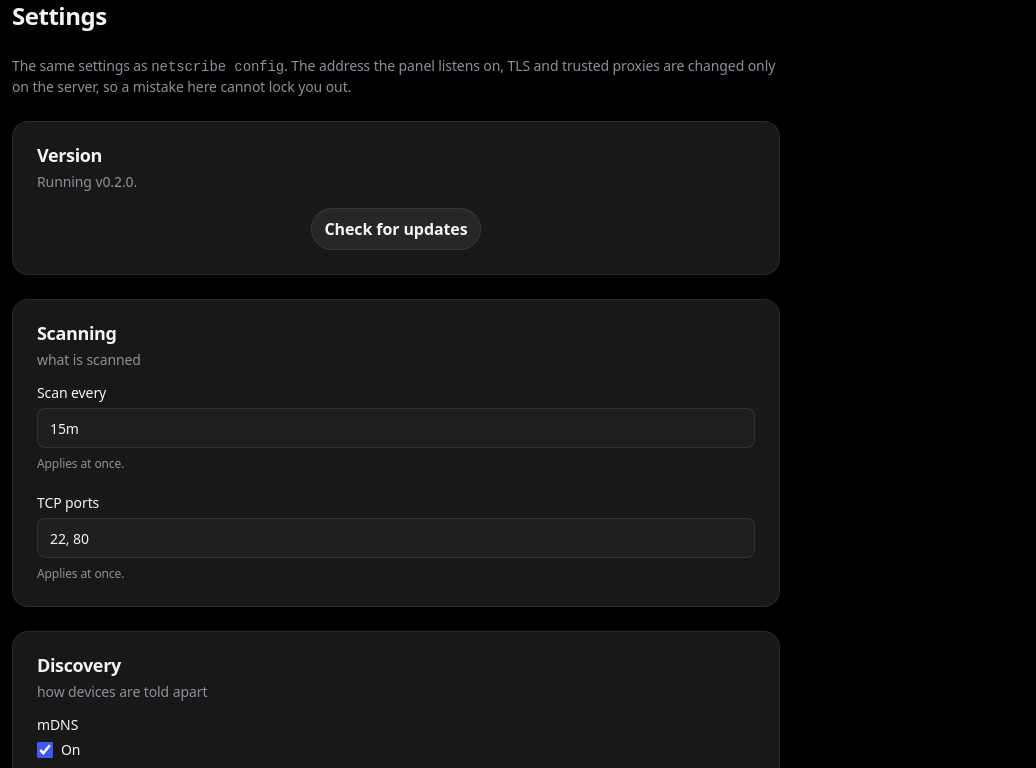
Test: Settings › shows the reason when the server refuses a value
Type "soon" into the field labelled "Scan every" at point(396, 428), box left=37, top=408, right=755, bottom=448
(page scrolled)
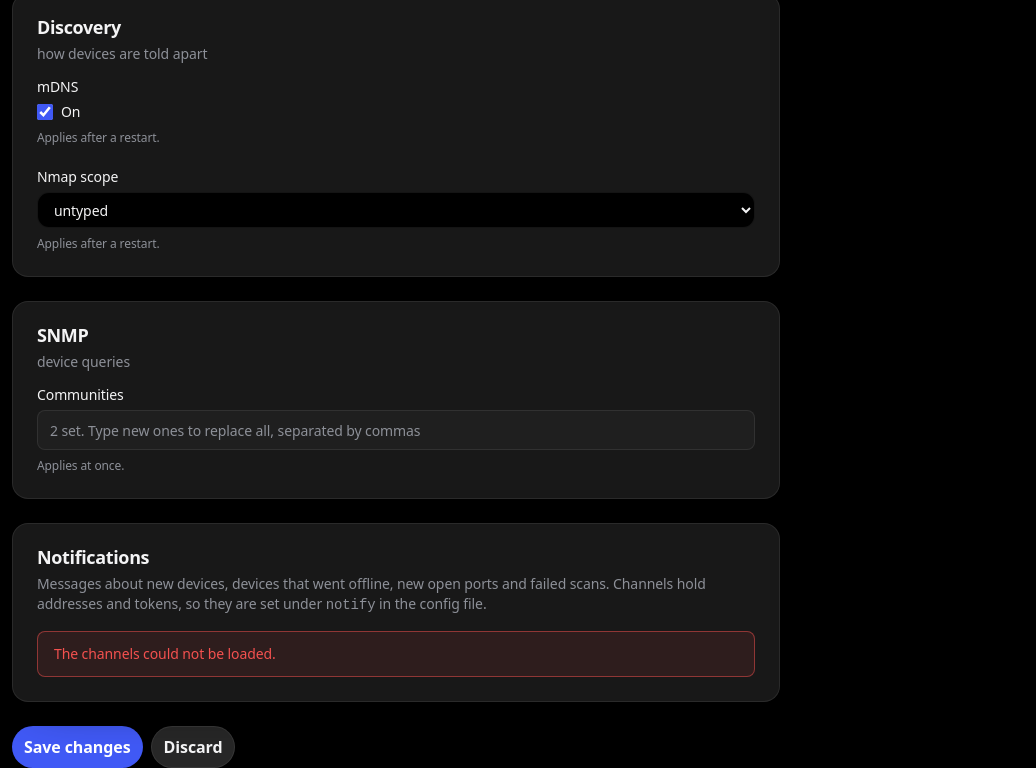
Click the button "Save changes" at point(77, 747), box left=12, top=726, right=142, bottom=767
(page scrolled)
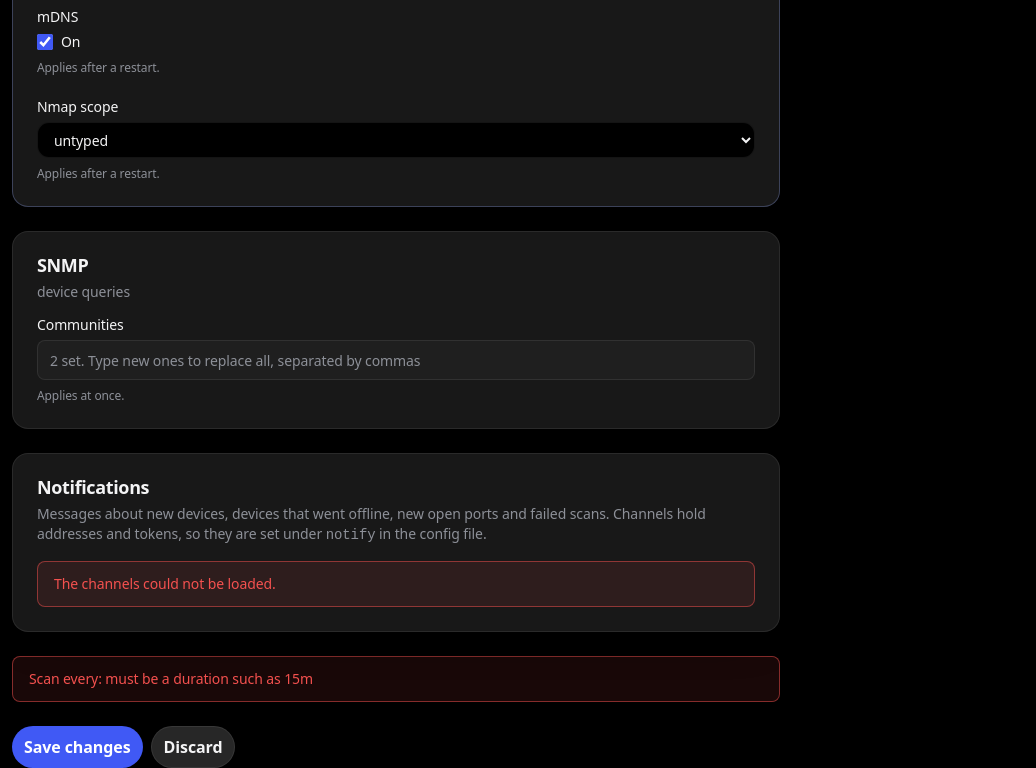
Expected: the text "Scan every: must be a duration such as 15m" is shown, left=12, top=656, right=780, bottom=702
